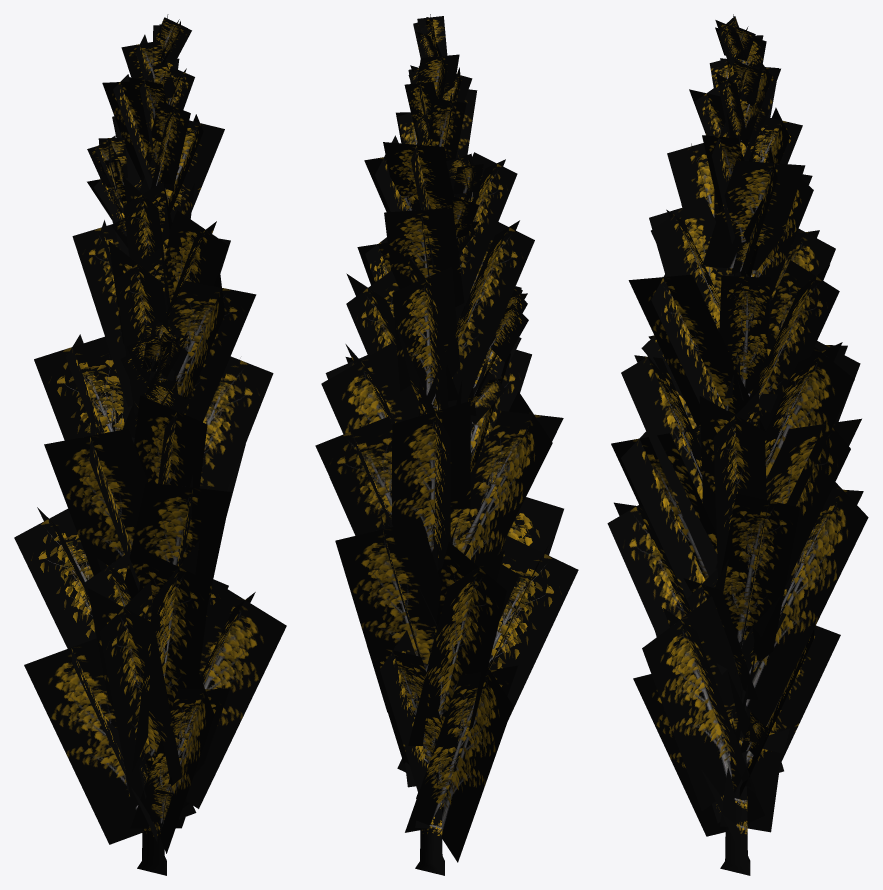
Rendered from poplar_fall.glb.
3 renders of one model, left to right at view 1: azimuth 30°, elevation 25°; view 2: azimuth 150°, elevation 25°; view 3: azimuth 270°, elevation 25°, orthographic.
Parts seen in each view (by area): view 1: 2_Leaves, 1_Trunk; view 2: 2_Leaves, 1_Trunk; view 3: 2_Leaves, 1_Trunk.
Boxes of the visible parts, x1=… form: 2_Leaves: x1=14, y1=17, x2=286, y2=853; 1_Trunk: x1=119, y1=14, x2=168, y2=875; 2_Leaves: x1=315, y1=16, x2=578, y2=862; 1_Trunk: x1=415, y1=14, x2=491, y2=875; 2_Leaves: x1=607, y1=16, x2=868, y2=842; 1_Trunk: x1=720, y1=14, x2=750, y2=875.
Bounding box in the file's own units: 53.78 × 201 × 55.33.
1 material, 1 textured.
